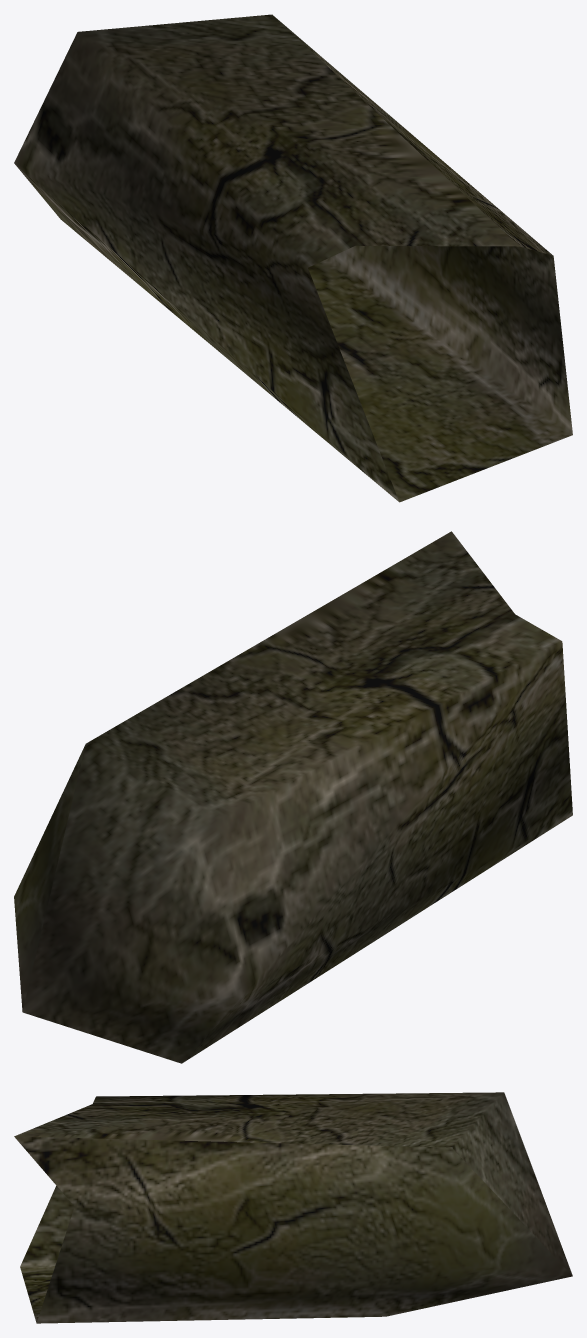
Rendered from MEP_Rock_02_a_LOD_01.fbx.
The picture shows the model from 3 angles, top to bottom: view 1: azimuth 30°, elevation 25°; view 2: azimuth 150°, elevation 25°; view 3: azimuth 270°, elevation 25°; orthographic projection. The views are drawn at different scales.
Visible parts, largest first — view 1: MEP_Rock_02_a_LOD_01; view 2: MEP_Rock_02_a_LOD_01; view 3: MEP_Rock_02_a_LOD_01.
Part boxes in pixels (bbox=[...]): MEP_Rock_02_a_LOD_01: bbox=[14, 14, 572, 502]; MEP_Rock_02_a_LOD_01: bbox=[14, 531, 572, 1063]; MEP_Rock_02_a_LOD_01: bbox=[14, 1092, 572, 1323].
Size of the model in its own units: 3.17 by 2.92 by 8.3.
